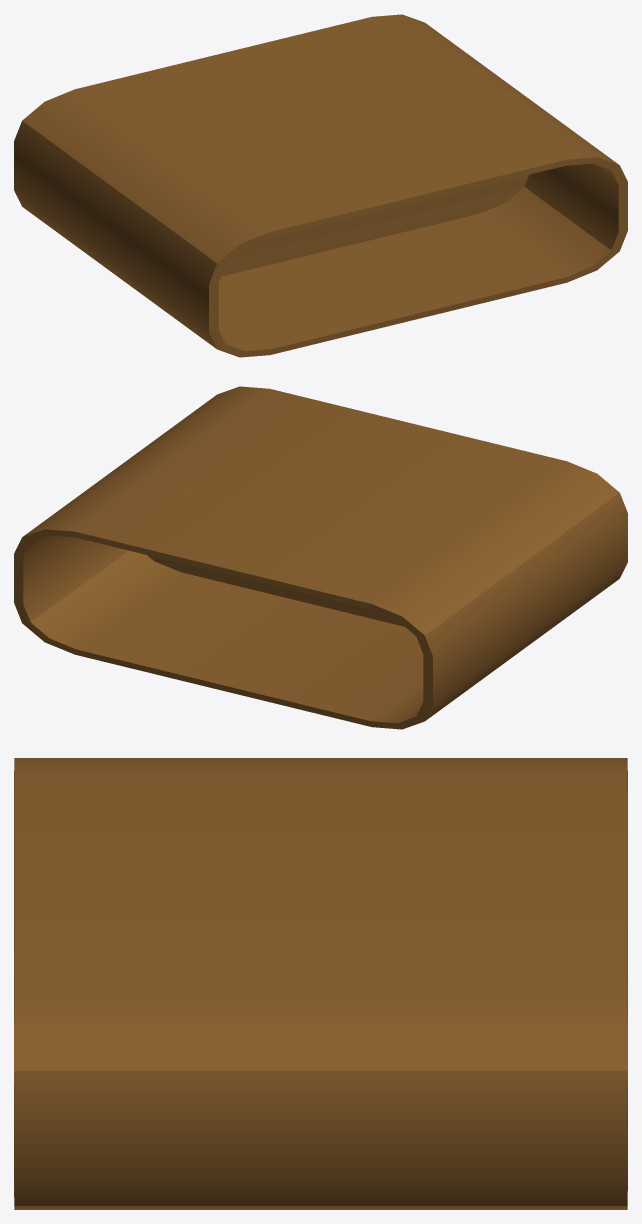
File: sandwich table.fbx
3 views of the same model, one above another, from view 1: azimuth 30°, elevation 25°; view 2: azimuth 150°, elevation 25°; view 3: azimuth 270°, elevation 25° (orthographic). The views are drawn at different scales.
Visible parts, largest first — view 1: sandwich table; view 2: sandwich table; view 3: sandwich table.
Part boxes in pixels (x1,y1,x2,y2): sandwich table: (14,14,627,357); sandwich table: (14,386,627,729); sandwich table: (14,758,627,1209).
Size of the model in its own units: 171 by 47.9 by 138.
1 material, 1 textured.
